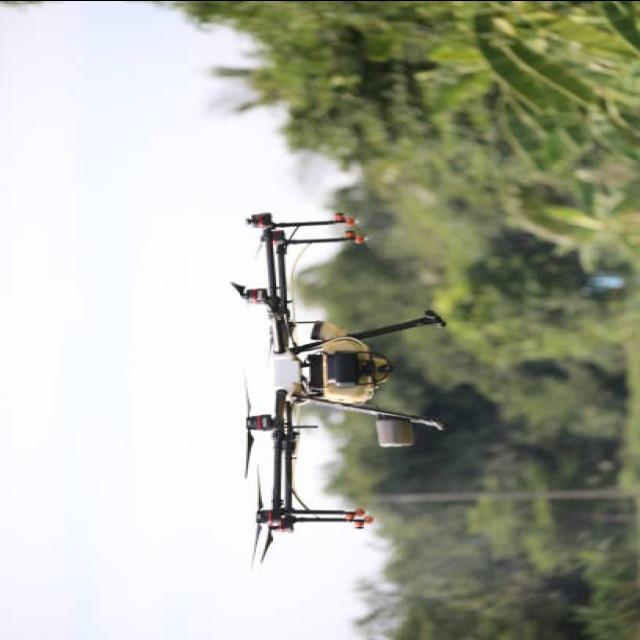drone: (227, 210, 448, 568)
